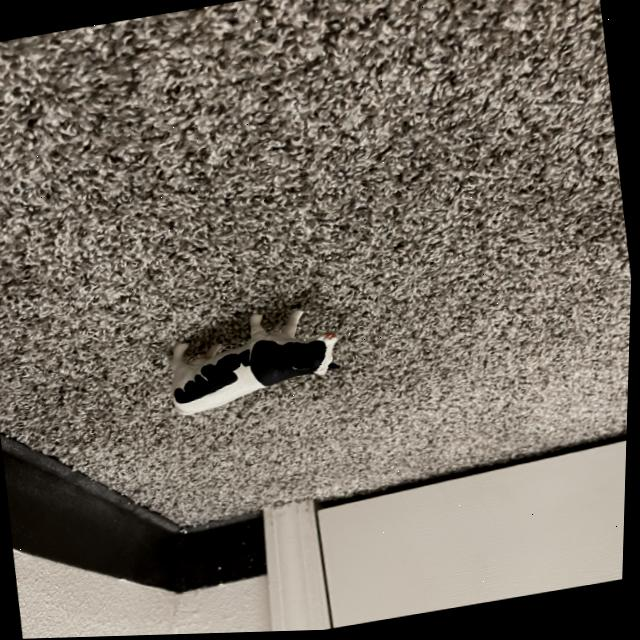cow: (158, 294, 349, 421)
